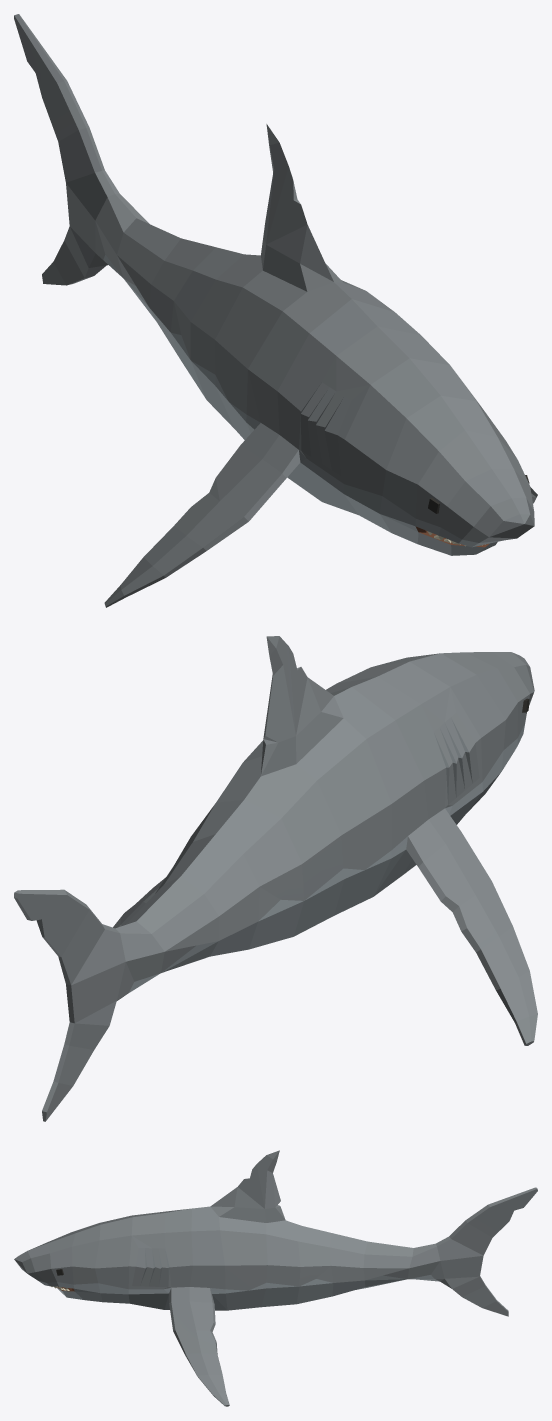
File: Shark.fbx
3 views of the same model, one above another, from view 1: azimuth 30°, elevation 25°; view 2: azimuth 150°, elevation 25°; view 3: azimuth 270°, elevation 25° (orthographic). The views are drawn at different scales.
Visible parts, largest first — view 1: Shark; view 2: Shark; view 3: Shark.
Boxes of the visible parts, <box> form: Shark: <box>14,14,537,607</box>; Shark: <box>14,636,537,1121</box>; Shark: <box>14,1150,537,1406</box>.
Size of the model in its own units: 230 by 203 by 474.
